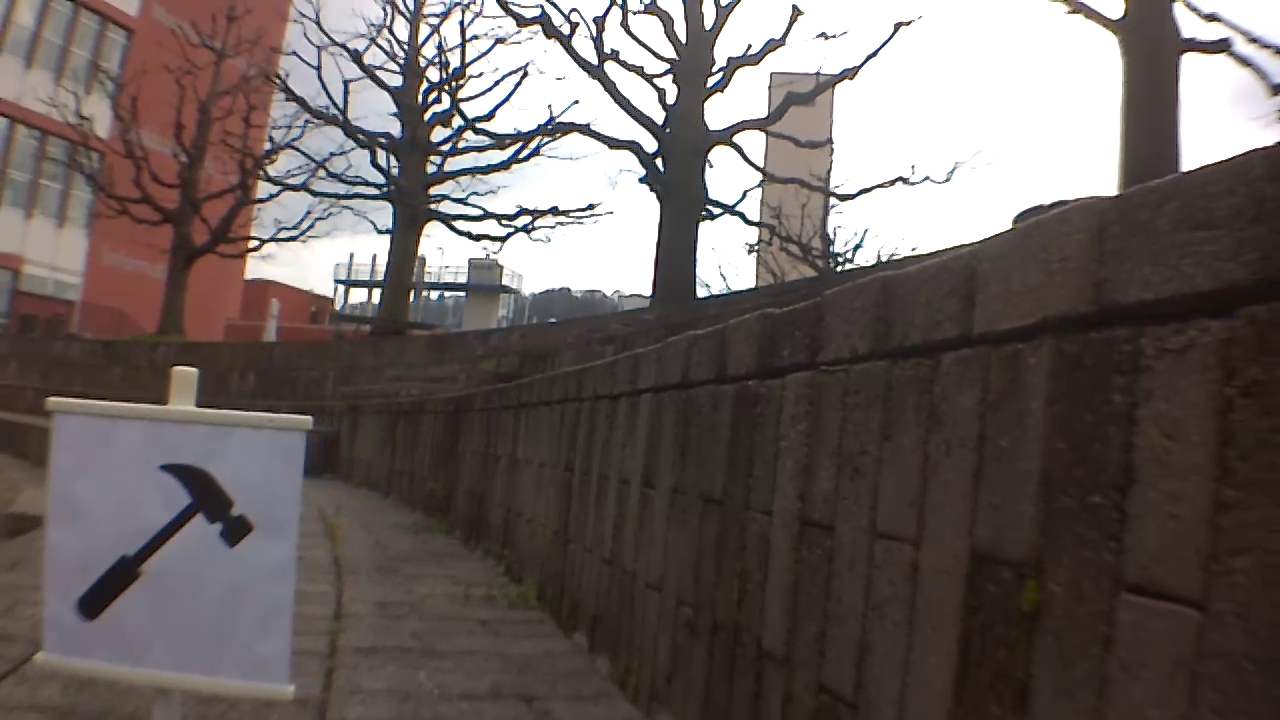hammer: (68, 454, 257, 628)
